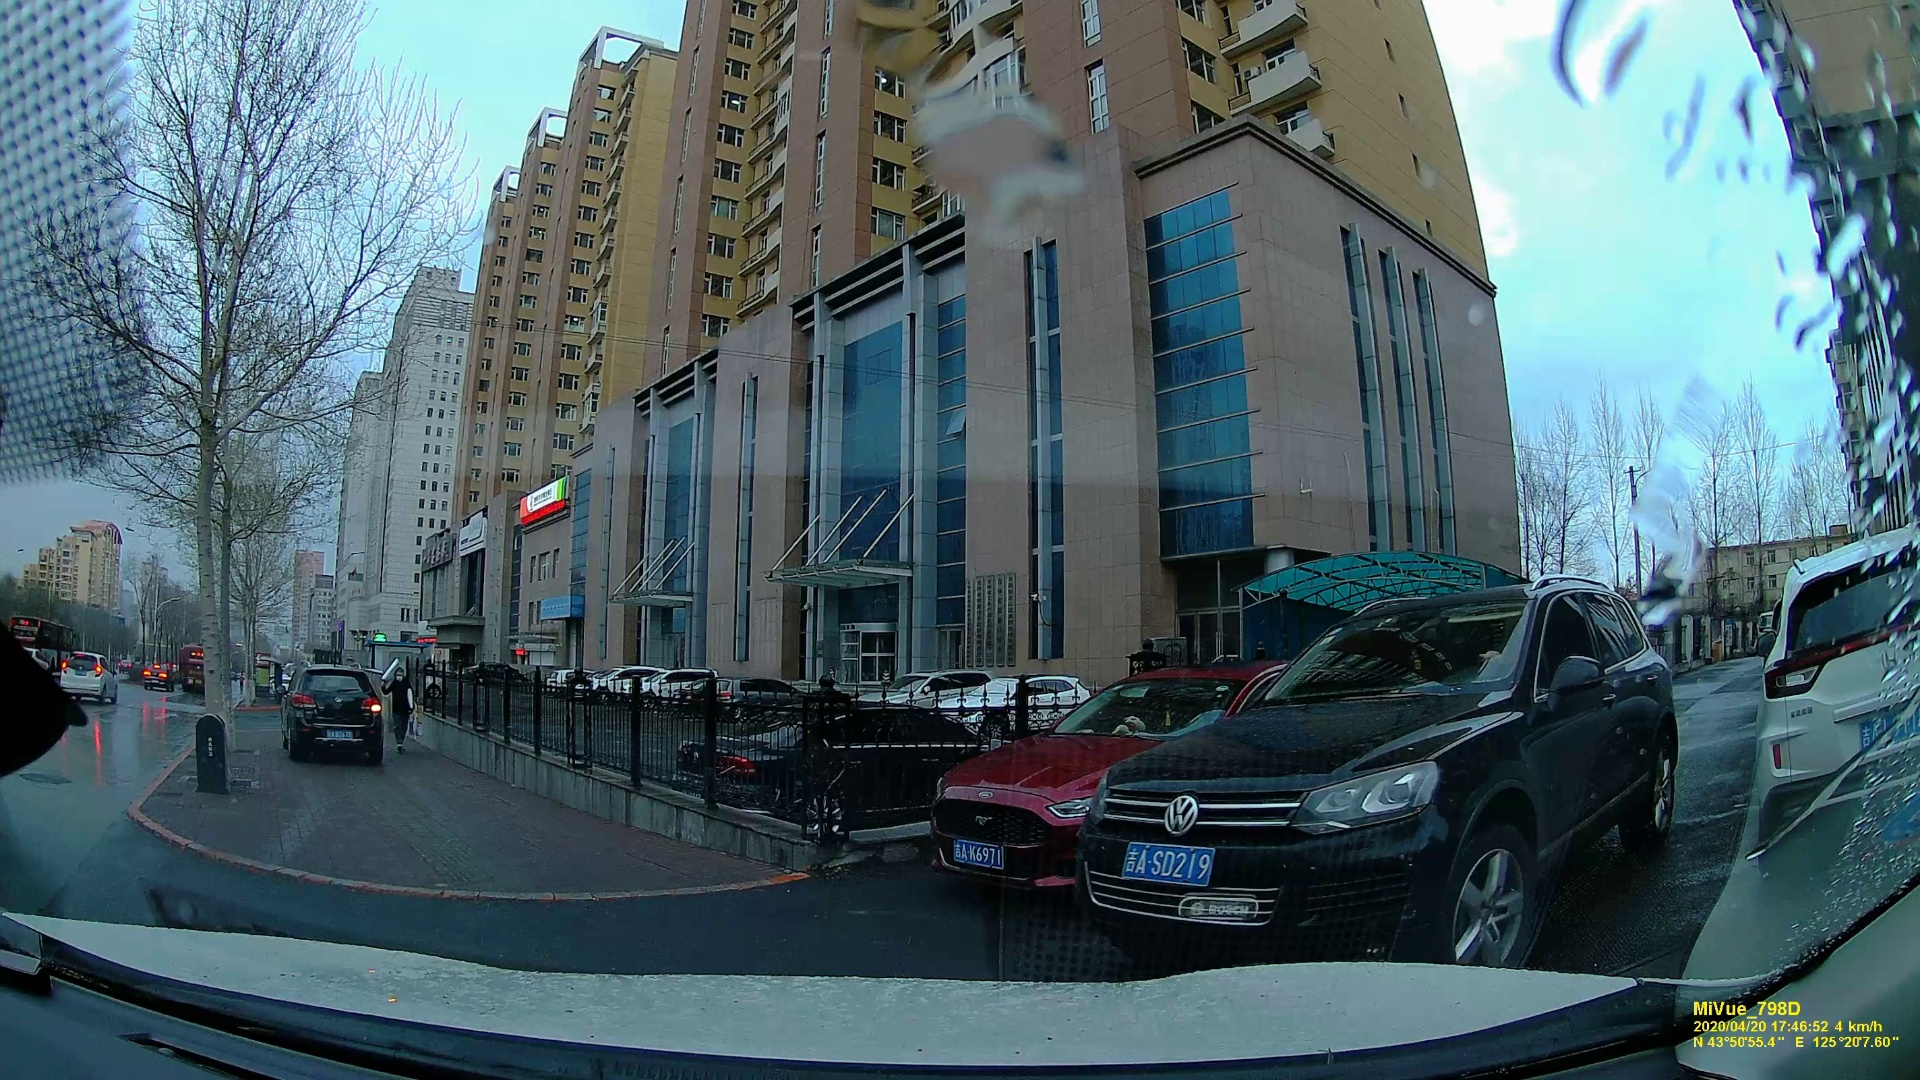person: (386, 665, 416, 754)
vehicle: (1094, 572, 1672, 950), (1750, 548, 1916, 803), (929, 690, 1092, 885), (274, 663, 386, 764), (59, 650, 118, 703), (141, 662, 173, 692)
